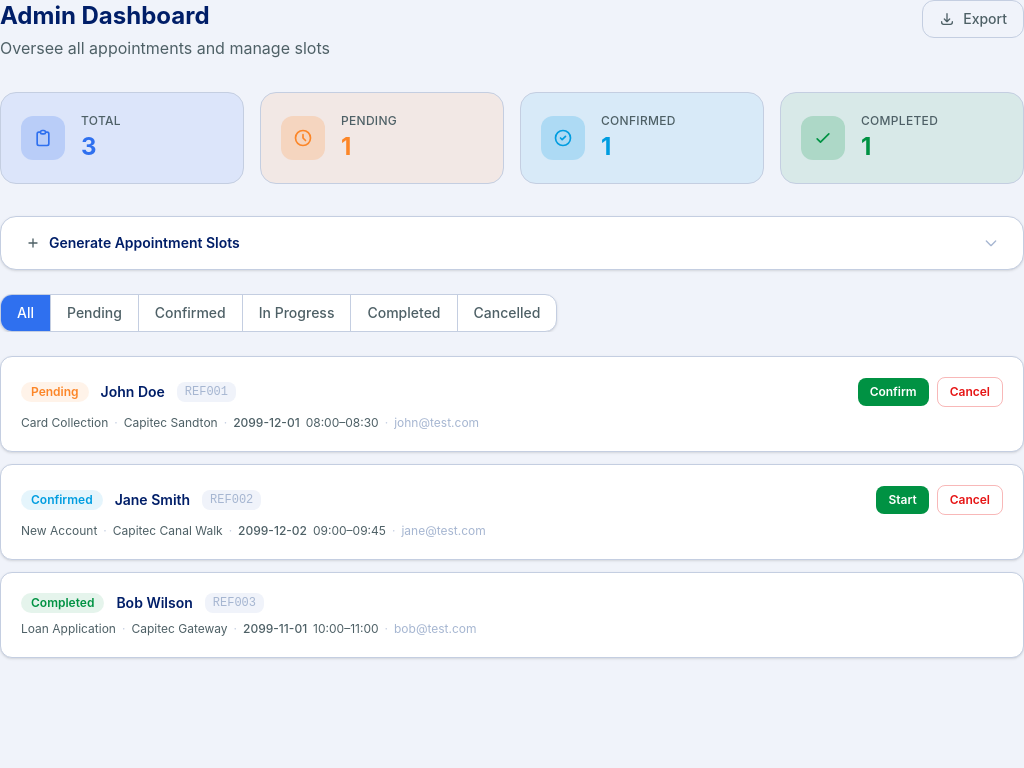
Test case: AdminPage › shows slot generation form
Expected: the text "Generate Appointment Slots" is shown, x1=49 y1=233 x2=240 y2=253
Note: Open the collapsible panel first
Click the button "Generate Appointment Slots": (144, 242) x1=1 y1=217 x2=1023 y2=269
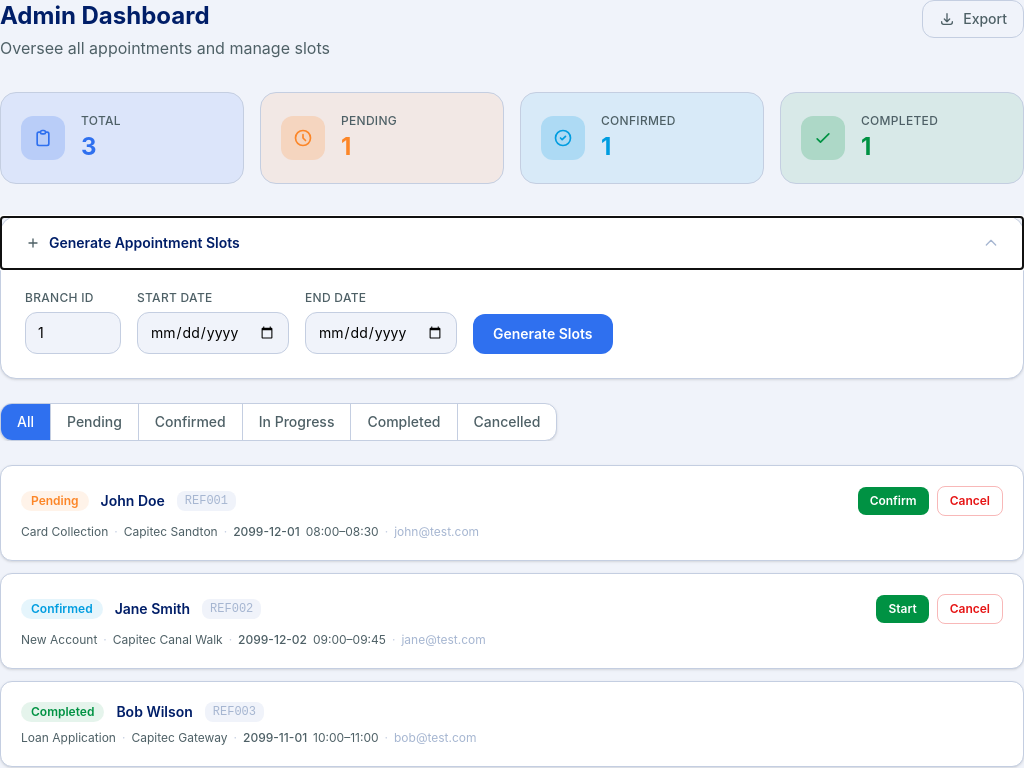
Result: the button "Generate Slots" is shown at x1=473 y1=314 x2=612 y2=354
